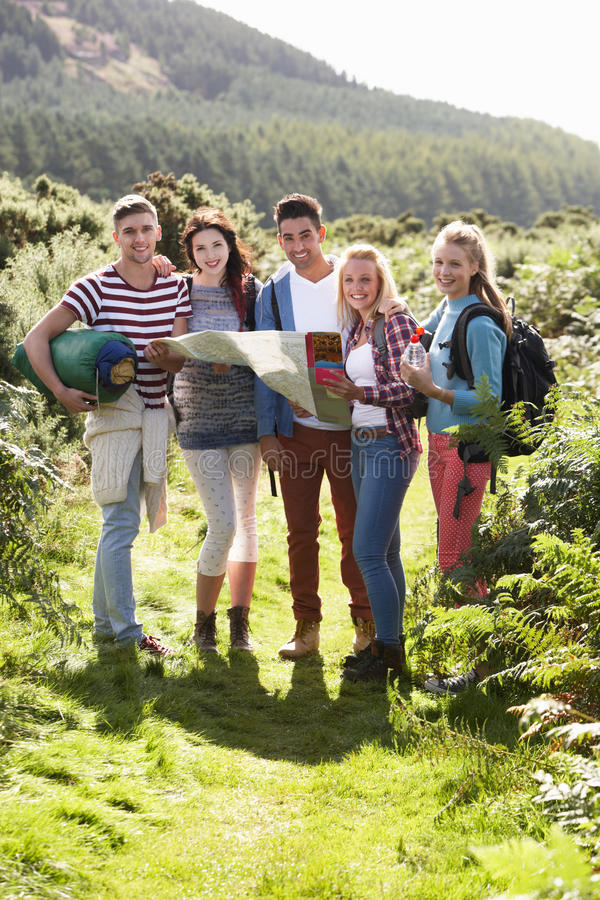Person: (26, 184, 188, 675), (398, 214, 556, 625), (252, 184, 371, 678), (306, 248, 432, 687), (167, 211, 275, 652)
